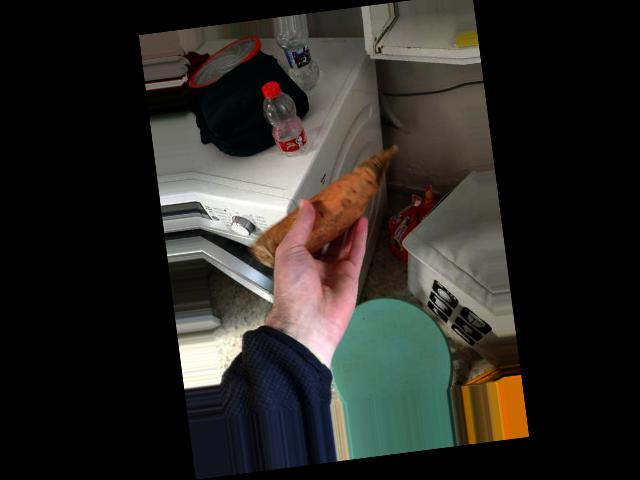sweet_potato: (278, 161, 374, 254)
